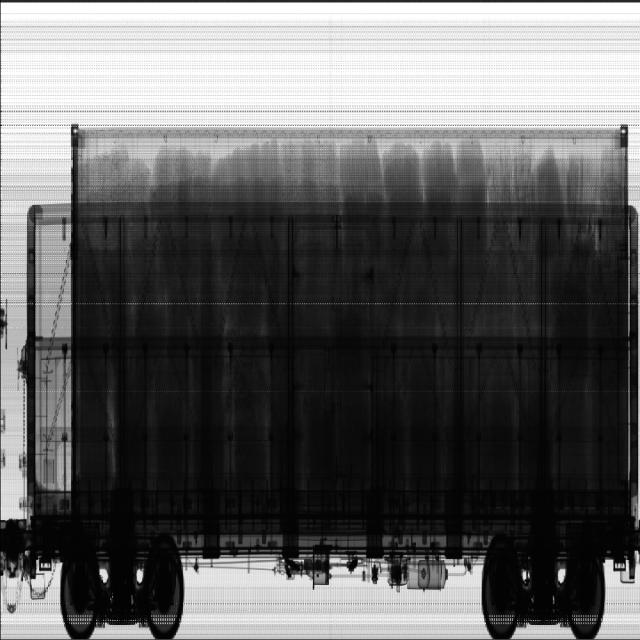clothes: (76, 138, 626, 508)
